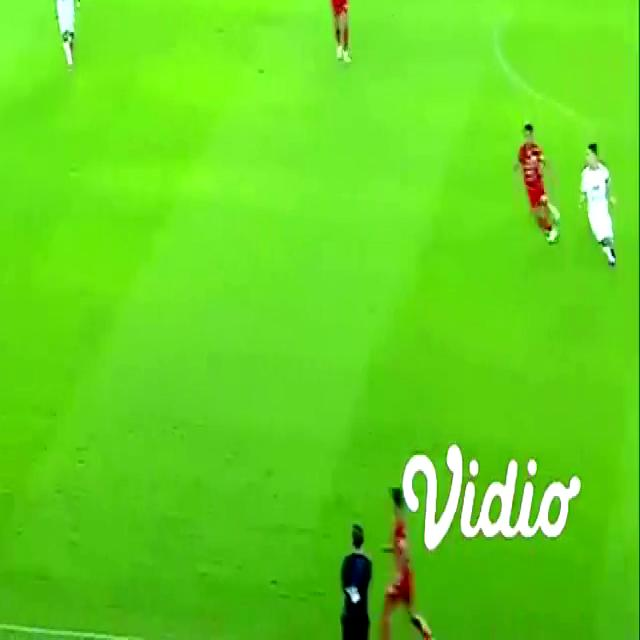soccer-player: (371, 475, 440, 640), (574, 135, 636, 275), (506, 118, 566, 254), (321, 0, 367, 75), (42, 0, 89, 69)
